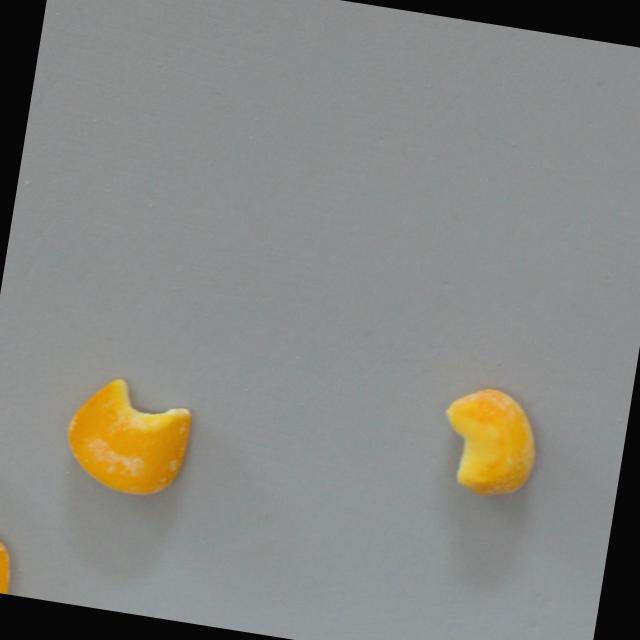pelicula: (60, 371, 198, 504), (433, 382, 544, 503), (0, 533, 19, 595)
